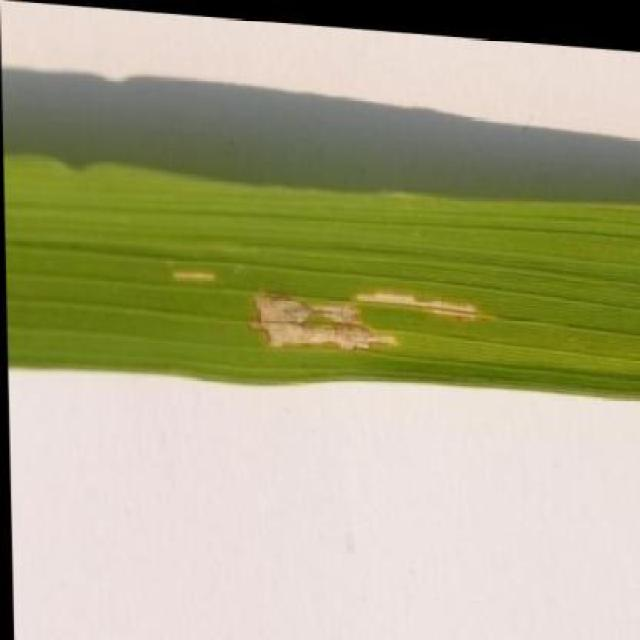Brown_Spot: (180, 219, 486, 375)
